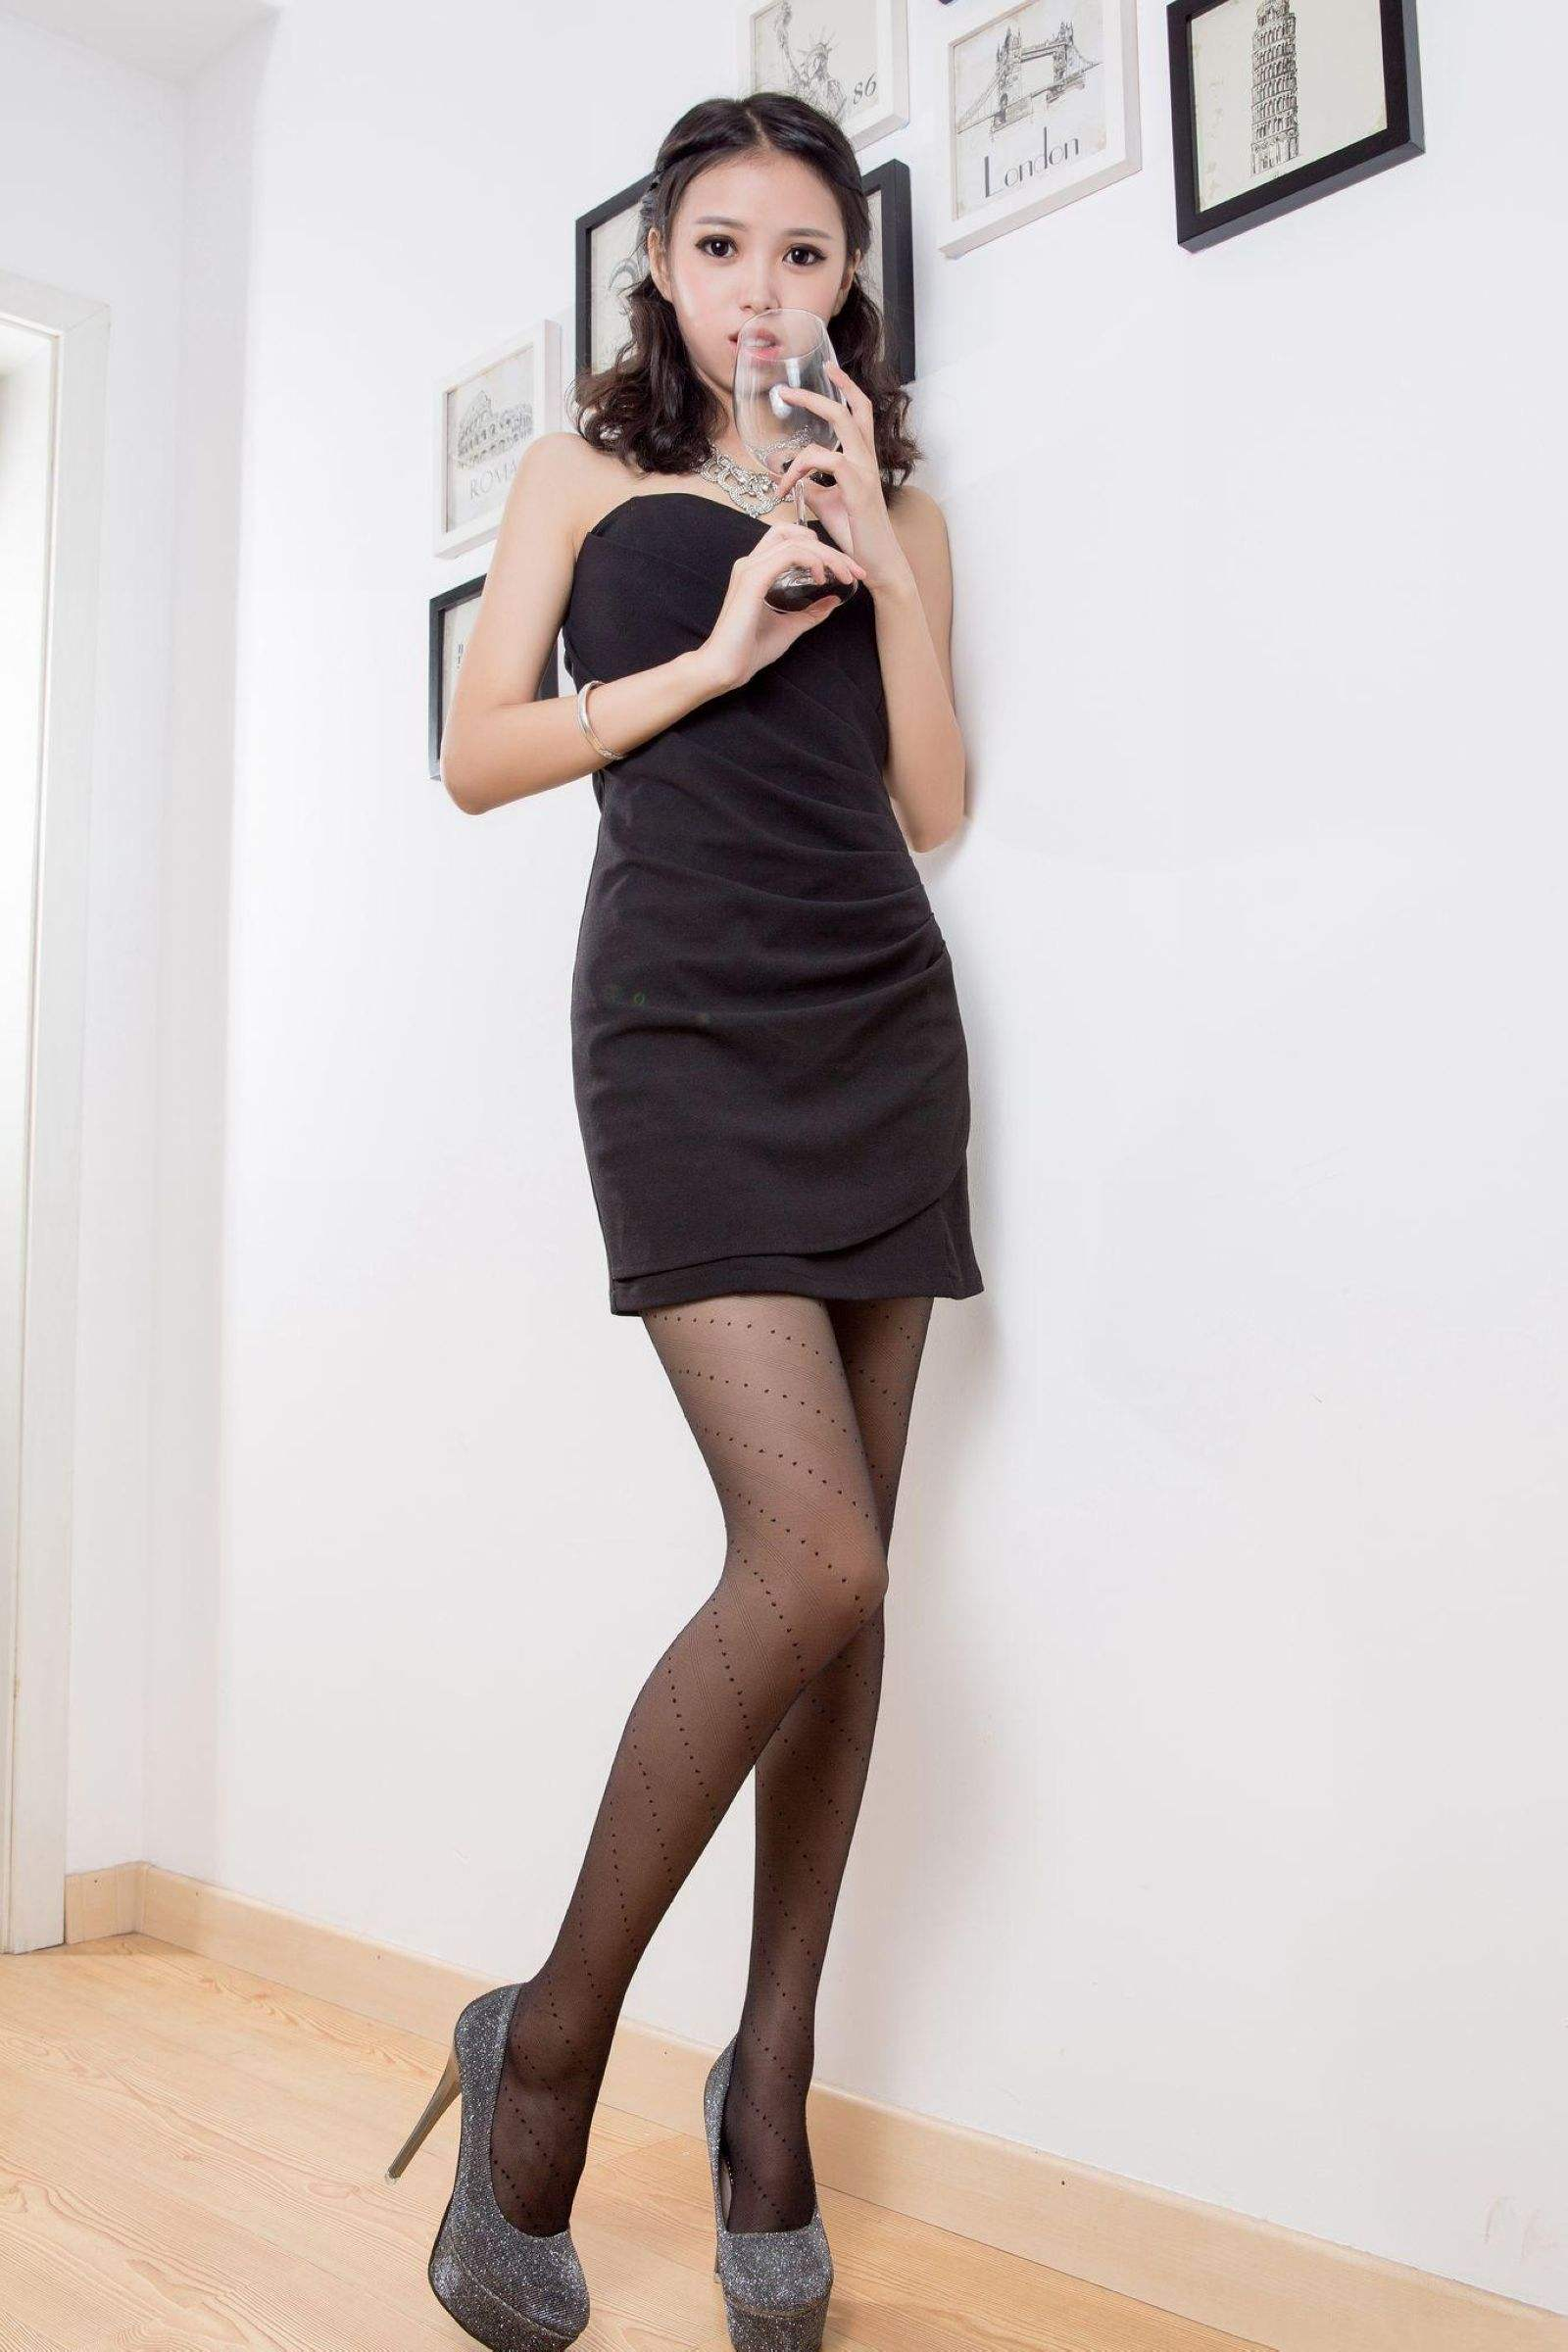person: (433, 2, 1097, 2199)
